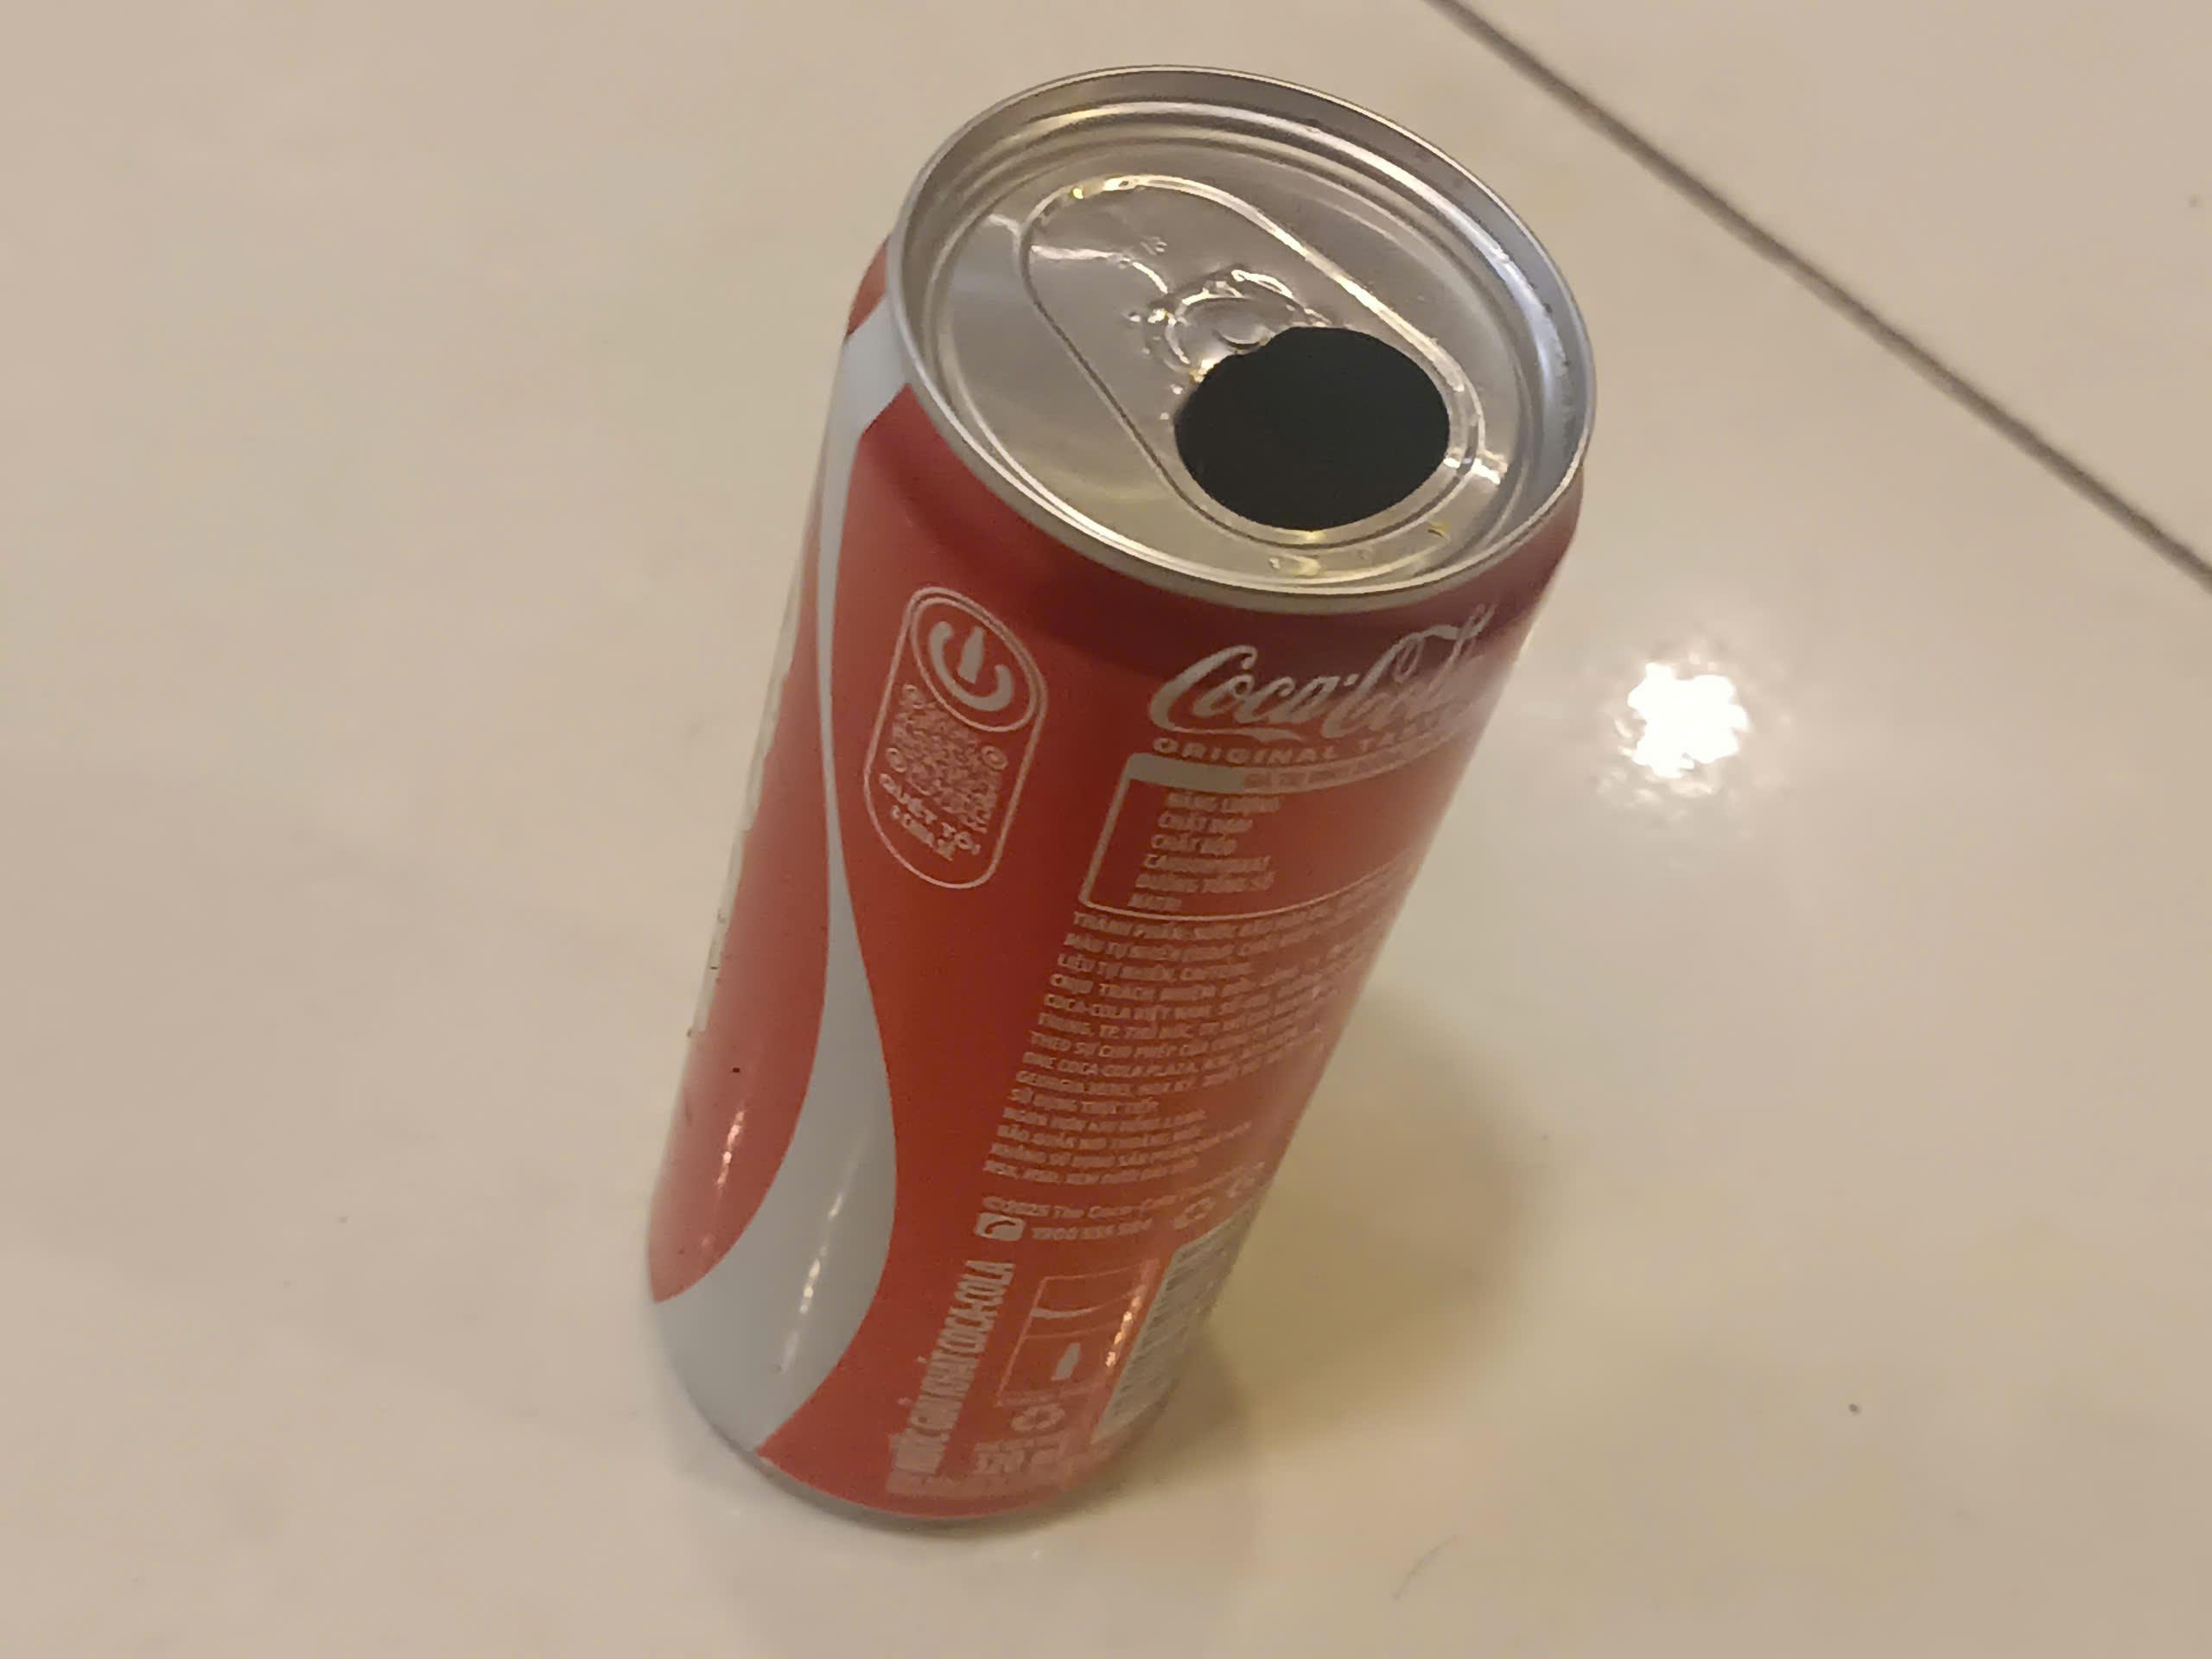Vo co: (648, 64, 1592, 1534)
